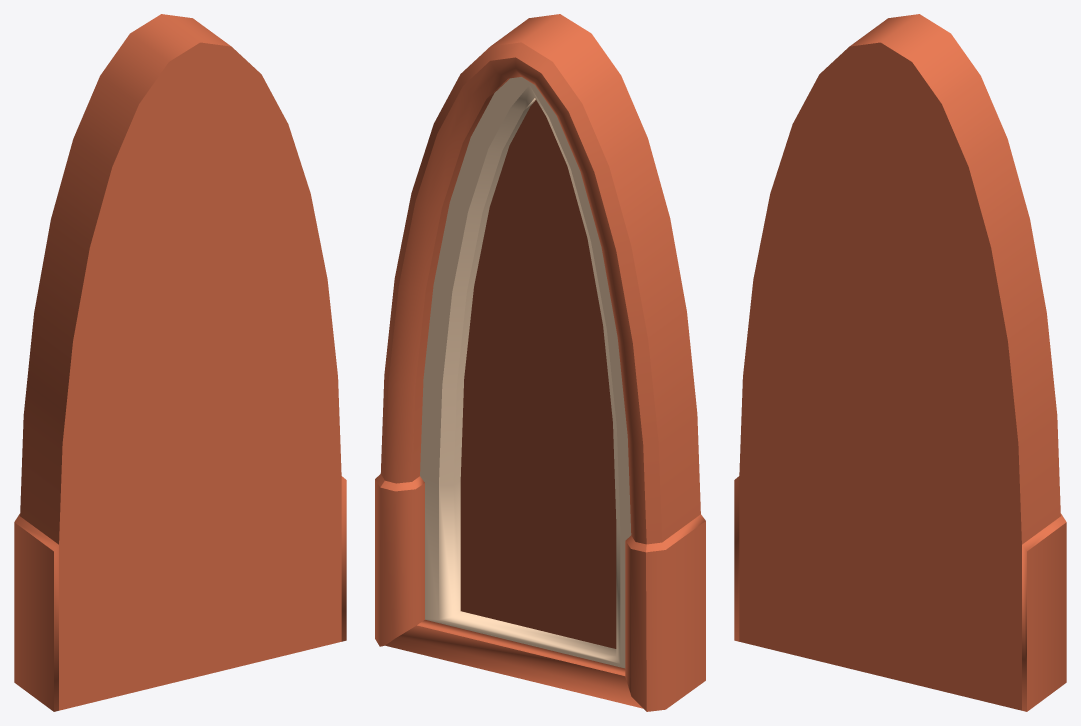
Rendered from DoorA.fbx.
3 views of the same model, side by side, from view 1: azimuth 30°, elevation 25°; view 2: azimuth 150°, elevation 25°; view 3: azimuth 330°, elevation 25° (orthographic).
Visible parts, largest first — view 1: Door_fake_large; view 2: Door_fake_large; view 3: Door_fake_large.
Boxes of the visible parts, x1,y1,x2,y2 form: Door_fake_large: [14, 14, 346, 711]; Door_fake_large: [375, 14, 705, 711]; Door_fake_large: [734, 14, 1066, 711].
Bounding box in the file's own units: 531 × 1099 × 149.
